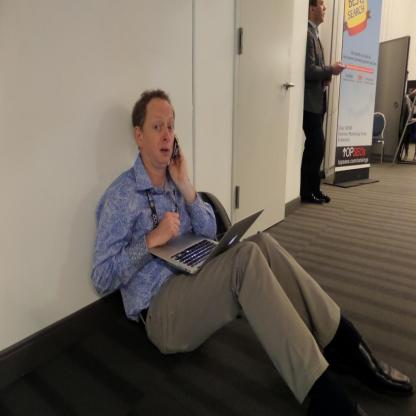board: (148, 208, 264, 275)
